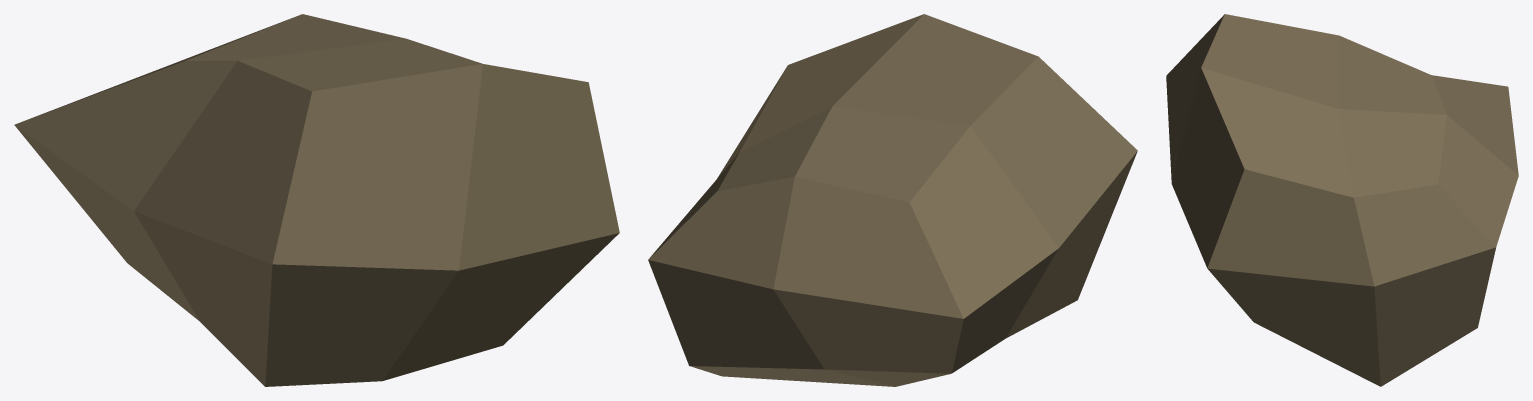
File: rock_0.obj
The picture shows the model from 3 angles, left to right: view 1: azimuth 30°, elevation 25°; view 2: azimuth 150°, elevation 25°; view 3: azimuth 270°, elevation 25°; orthographic projection. The views are drawn at different scales.
Parts seen in each view (by area): view 1: rock_0; view 2: rock_0; view 3: rock_0.
Part boxes in pixels (x1=…): rock_0: x1=14, y1=14, x2=619, y2=386; rock_0: x1=648, y1=14, x2=1137, y2=386; rock_0: x1=1166, y1=14, x2=1518, y2=386.
Size of the model in its own units: 2.94 by 2.48 by 2.87.
